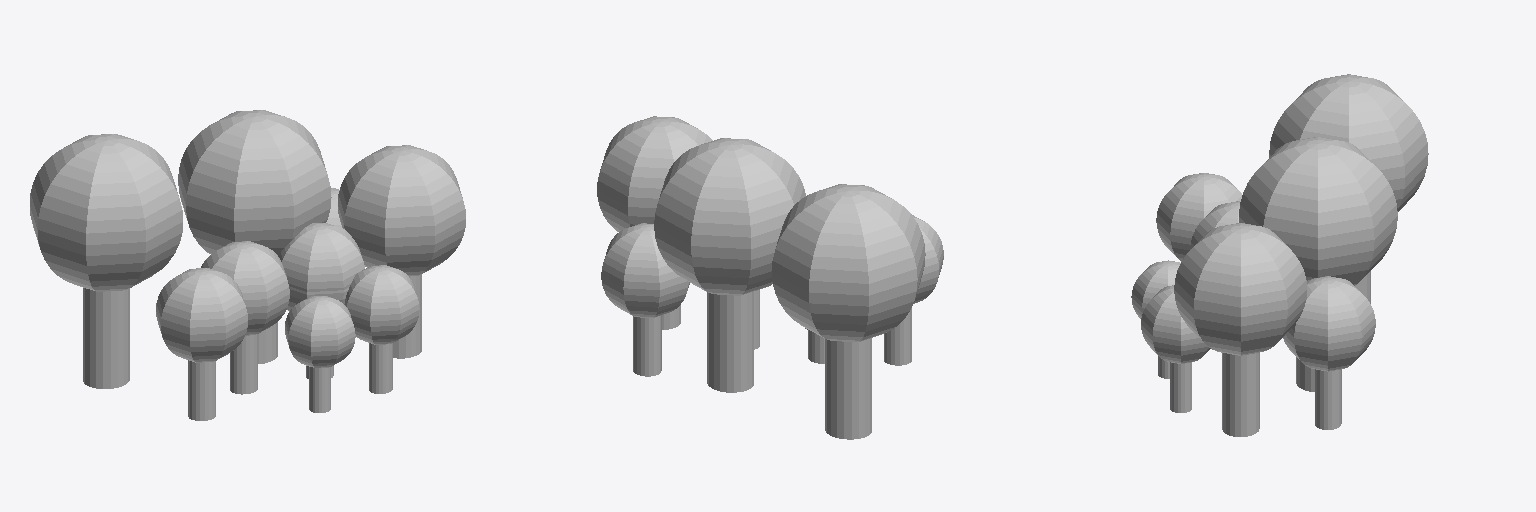
Rendered from clusterwithflwer.obj.
The picture shows the model from 3 angles: view 1: azimuth 30°, elevation 25°; view 2: azimuth 150°, elevation 25°; view 3: azimuth 270°, elevation 25°; orthographic projection.
Visible parts, largest first — view 1: BBB12; view 2: BBB12; view 3: BBB12.
Part boxes in pixels (left/top/right/bottom): BBB12: left=30, top=110, right=465, bottom=420; BBB12: left=597, top=116, right=943, bottom=439; BBB12: left=1131, top=74, right=1428, bottom=436.
Size of the model in its own units: 4.95 by 3.1 by 3.46.